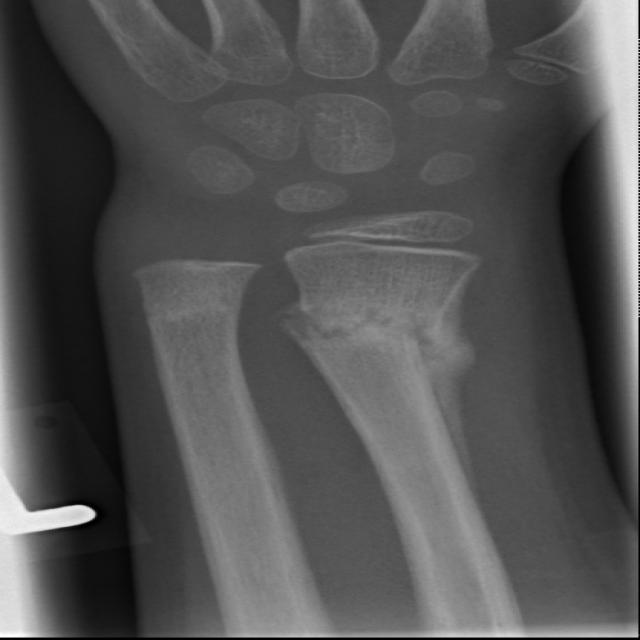radius fracture: (251, 255, 484, 422)
ulna fracture: (111, 236, 274, 412)
